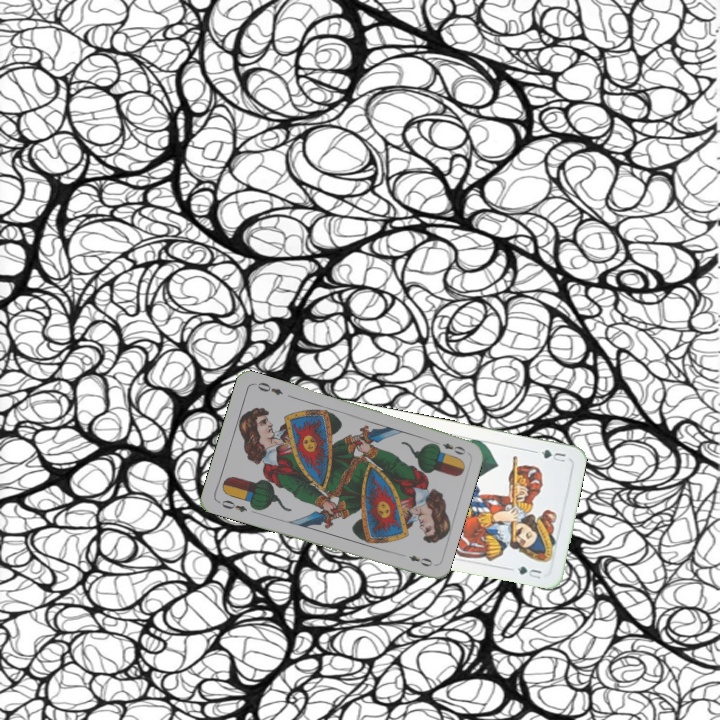EO: (429, 437, 468, 457), (217, 496, 250, 515)
GU: (536, 445, 568, 465)
